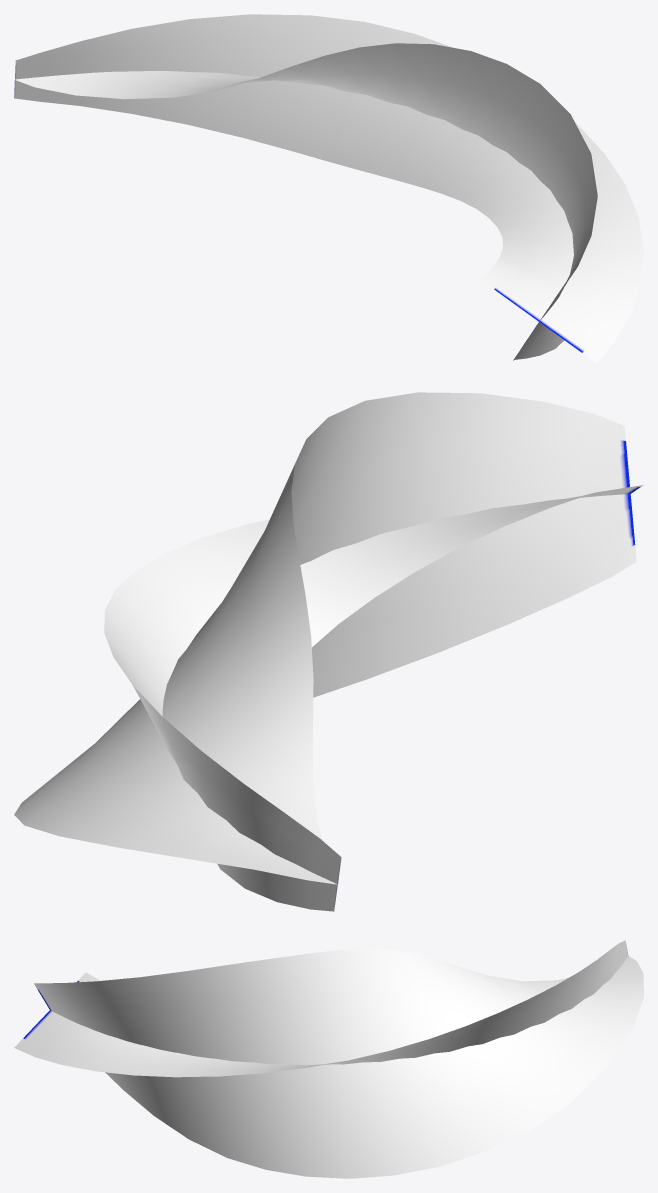
The model's file is tiaodai.FBX.
3 renders of one model, top to bottom at view 1: azimuth 30°, elevation 25°; view 2: azimuth 150°, elevation 25°; view 3: azimuth 270°, elevation 25°, orthographic. The views are drawn at different scales.
Parts seen in each view (by area): view 1: Plane002; view 2: Plane002; view 3: Plane002.
Part boxes in pixels (bbox=[...]): Plane002: bbox=[14, 14, 643, 363]; Plane002: bbox=[14, 392, 643, 911]; Plane002: bbox=[14, 940, 643, 1178].
Bounding box in the file's own units: 1.38 × 0.9031 × 2.74.
